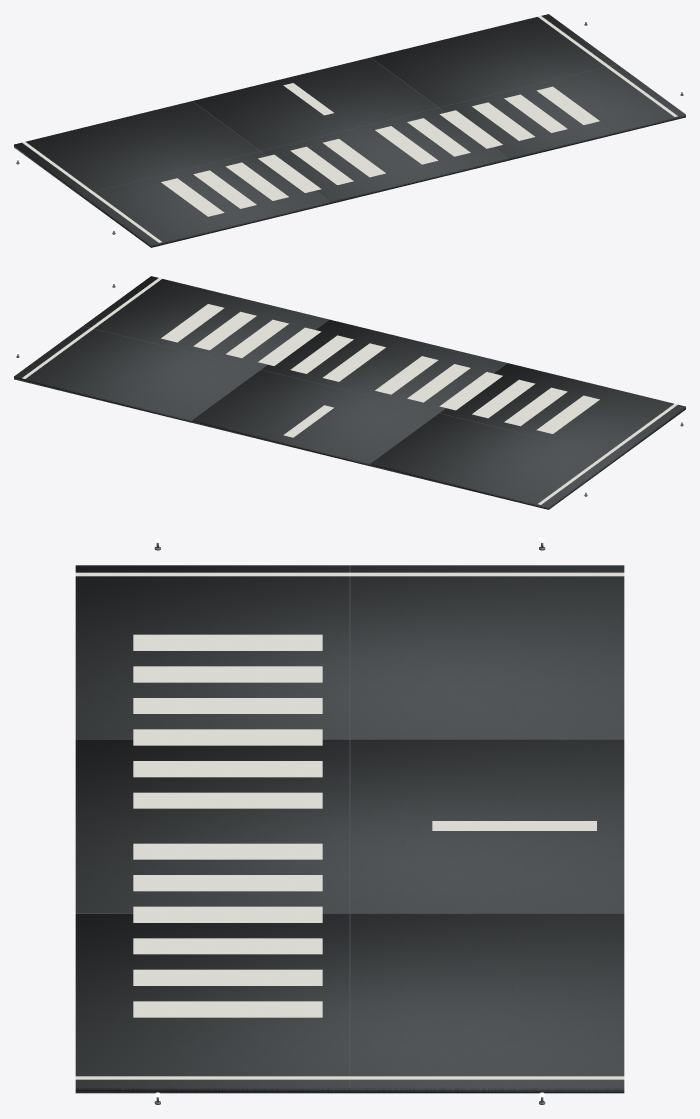
The model's file is PZ_Runway_Threshold_45x20m.glb.
3 views of the same model, one above another, from view 1: azimuth 30°, elevation 25°; view 2: azimuth 150°, elevation 25°; view 3: azimuth 270°, elevation 25° (orthographic). The views are drawn at different scales.
Parts seen in each view (by area): view 1: RWY_AsphaltLane_1, RWY_AsphaltLane_3, RWY_AsphaltLane_2, RWY_Threshold_Bar_-1_3, RWY_Threshold_Bar_1_2, RWY_Threshold_Bar_-1_0, RWY_Threshold_Bar_-1_4, RWY_Threshold_Bar_1_1, RWY_Threshold_Bar_1_3, RWY_Threshold_Bar_-1_2, RWY_Threshold_Bar_1_4, RWY_Threshold_Bar_-1_5 (+7 smaller); view 2: RWY_AsphaltLane_1, RWY_AsphaltLane_3, RWY_AsphaltLane_2, RWY_Threshold_Bar_-1_3, RWY_Threshold_Bar_1_3, RWY_Threshold_Bar_-1_2, RWY_Threshold_Bar_1_2, RWY_Threshold_Bar_1_4, RWY_Threshold_Bar_-1_4, RWY_Threshold_Bar_-1_1, RWY_Threshold_Bar_1_0, RWY_Threshold_Bar_-1_0 (+7 smaller); view 3: RWY_AsphaltLane_3, RWY_AsphaltLane_1, RWY_AsphaltLane_2, RWY_Threshold_Bar_-1_0, RWY_Threshold_Bar_-1_1, RWY_Threshold_Bar_-1_2, RWY_Threshold_Bar_-1_4, RWY_Threshold_Bar_-1_5, RWY_Threshold_Bar_1_0, RWY_Threshold_Bar_1_1, RWY_Threshold_Bar_1_2, RWY_Threshold_Bar_1_3 (+7 smaller).
Part boxes in pixels (x1,y1,x2,y2): RWY_AsphaltLane_1: (14,101,329,247); RWY_AsphaltLane_3: (371,14,685,160); RWY_AsphaltLane_2: (193,57,507,204); RWY_Threshold_Bar_-1_3: (225,162,288,200); RWY_Threshold_Bar_1_2: (439,110,502,148); RWY_Threshold_Bar_-1_0: (322,139,385,177); RWY_Threshold_Bar_-1_4: (193,170,256,208); RWY_Threshold_Bar_1_1: (407,118,470,156); RWY_Threshold_Bar_1_3: (472,102,534,140); RWY_Threshold_Bar_-1_2: (258,154,321,192); RWY_Threshold_Bar_1_4: (504,94,567,132); RWY_Threshold_Bar_-1_5: (161,178,224,216); RWY_AsphaltLane_1: (370,363,685,509); RWY_AsphaltLane_3: (14,276,328,422); RWY_AsphaltLane_2: (192,319,506,466); RWY_Threshold_Bar_-1_3: (472,379,535,418); RWY_Threshold_Bar_1_3: (226,319,288,358); RWY_Threshold_Bar_-1_2: (439,372,502,410); RWY_Threshold_Bar_1_2: (258,327,321,365); RWY_Threshold_Bar_1_4: (193,311,256,350); RWY_Threshold_Bar_-1_4: (504,387,567,426); RWY_Threshold_Bar_-1_1: (407,364,470,402); RWY_Threshold_Bar_1_0: (323,343,385,381); RWY_Threshold_Bar_-1_0: (375,356,438,394); RWY_AsphaltLane_3: (75,913,624,1093); RWY_AsphaltLane_1: (75,565,624,739); RWY_AsphaltLane_2: (75,739,624,912); RWY_Threshold_Bar_-1_0: (133,792,322,808); RWY_Threshold_Bar_-1_1: (133,761,322,777); RWY_Threshold_Bar_-1_2: (133,729,322,745); RWY_Threshold_Bar_-1_4: (133,666,322,682); RWY_Threshold_Bar_-1_5: (133,634,322,650); RWY_Threshold_Bar_1_0: (133,843,322,859); RWY_Threshold_Bar_1_1: (133,875,322,891); RWY_Threshold_Bar_1_2: (133,906,322,922); RWY_Threshold_Bar_1_3: (133,938,322,954).
Size of the model in its own units: 48.03 by 0.65 by 20.
5 materials, 3 textured.
